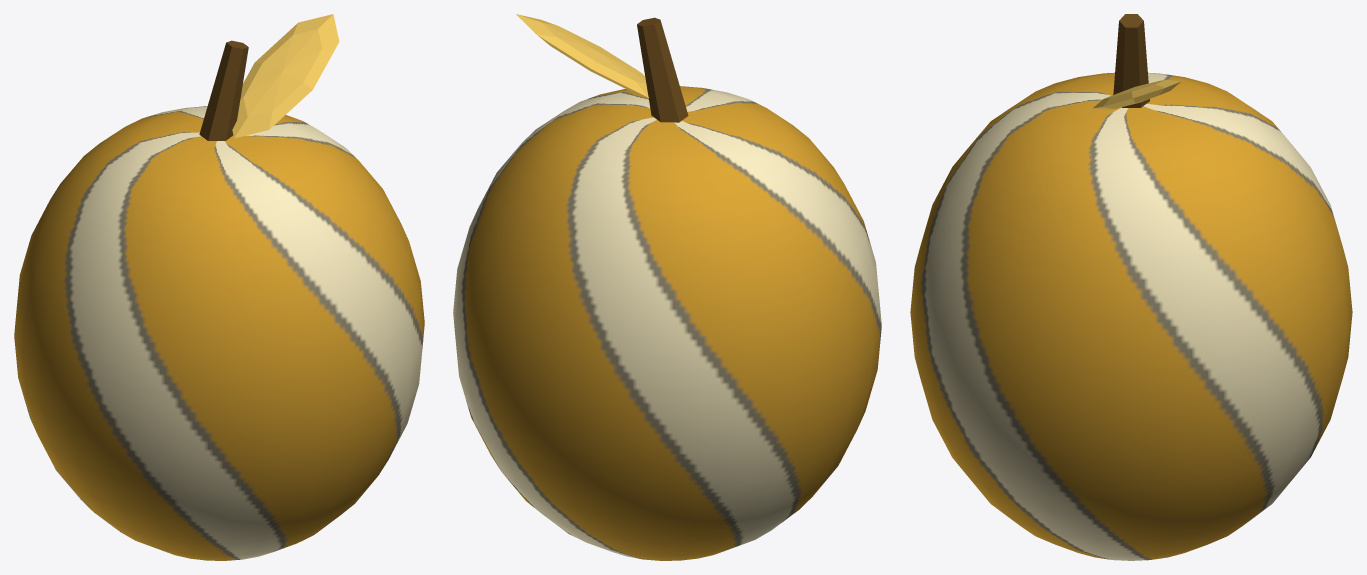
File: Fruit_Griffin.fbx
3 renders of one model, left to right at view 1: azimuth 30°, elevation 25°; view 2: azimuth 150°, elevation 25°; view 3: azimuth 270°, elevation 25°, orthographic. The views are drawn at different scales.
Parts seen in each view (by area): view 1: Fruit_Griffin; view 2: Fruit_Griffin; view 3: Fruit_Griffin.
Boxes of the visible parts, x1,y1,x2,y2 form: Fruit_Griffin: [14, 14, 424, 560]; Fruit_Griffin: [453, 14, 881, 560]; Fruit_Griffin: [910, 14, 1352, 560].
Size of the model in its own units: 1.6 by 2.13 by 1.6.
1 material, 1 textured.
